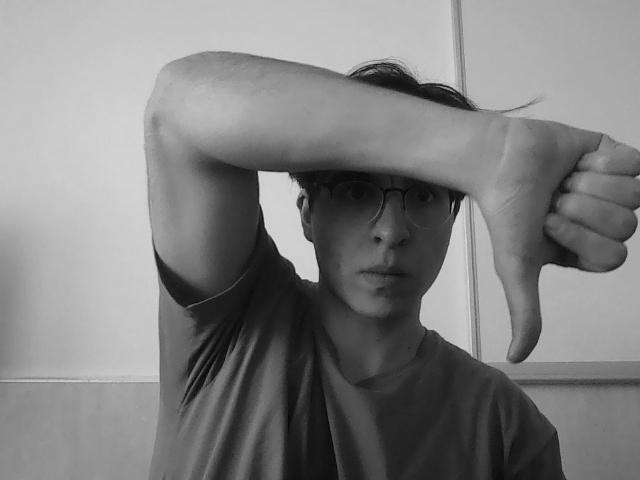bad: (474, 118, 640, 363)
